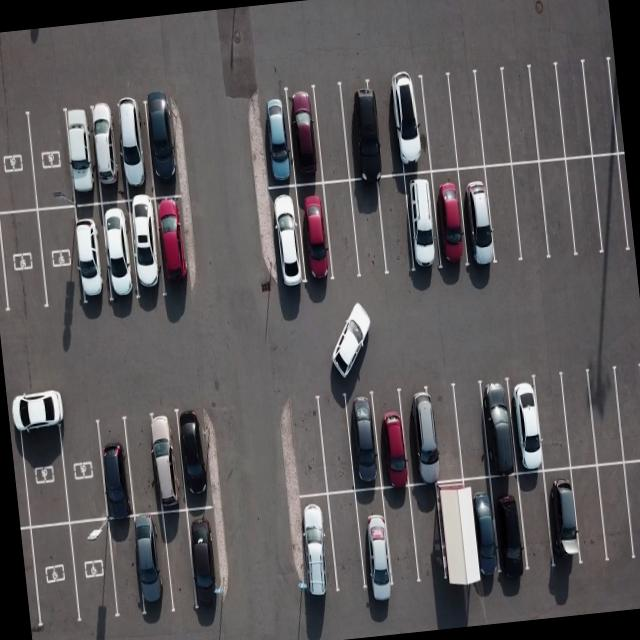car: (292, 492, 342, 606), (67, 515, 120, 622), (452, 478, 503, 588), (483, 474, 532, 581), (540, 462, 588, 568), (352, 484, 398, 594), (152, 193, 200, 298), (66, 201, 111, 310), (336, 79, 384, 181), (186, 506, 232, 612), (399, 386, 447, 486), (175, 410, 222, 512), (130, 514, 176, 618), (98, 196, 142, 304), (426, 167, 470, 273), (502, 377, 549, 476), (93, 418, 137, 522), (369, 390, 414, 491), (124, 196, 166, 304), (477, 379, 523, 477), (456, 164, 498, 270), (296, 180, 338, 286), (342, 392, 386, 493), (402, 170, 444, 274), (286, 84, 328, 185), (146, 412, 188, 512), (390, 79, 432, 176), (270, 185, 308, 292), (144, 97, 184, 198), (114, 100, 152, 201), (62, 106, 100, 206), (90, 100, 128, 198), (260, 89, 297, 189)
free: (13, 408, 68, 528), (57, 412, 111, 522), (26, 520, 78, 630), (35, 203, 86, 314), (325, 490, 374, 602), (509, 470, 558, 578), (26, 106, 76, 210), (0, 208, 47, 318), (376, 487, 424, 593), (590, 462, 638, 566), (565, 464, 612, 570), (122, 413, 170, 516), (430, 482, 476, 588), (590, 150, 634, 258), (316, 393, 362, 496), (580, 366, 626, 469), (404, 484, 450, 586), (556, 367, 602, 468), (102, 516, 146, 620), (286, 396, 330, 500), (447, 382, 493, 481), (561, 154, 604, 259), (531, 373, 576, 472), (511, 160, 554, 263), (375, 175, 418, 278), (536, 157, 578, 260), (312, 82, 355, 182), (581, 58, 624, 158), (322, 180, 363, 284), (482, 163, 523, 267), (423, 386, 466, 484), (159, 508, 199, 612), (346, 174, 387, 275), (526, 62, 568, 160), (551, 62, 592, 160), (471, 70, 511, 168), (502, 68, 542, 166), (447, 72, 487, 169), (418, 78, 458, 174), (0, 106, 35, 214), (370, 80, 407, 176), (612, 360, 640, 463), (622, 458, 640, 563)
